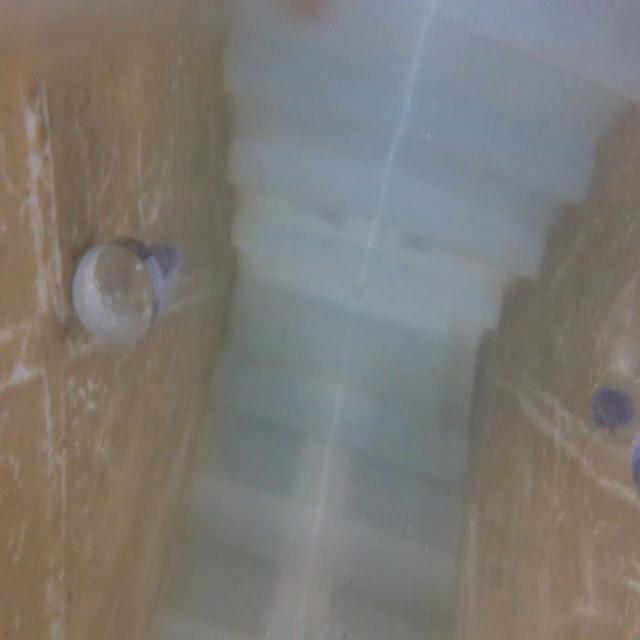plastic bottle: (44, 228, 200, 404)
